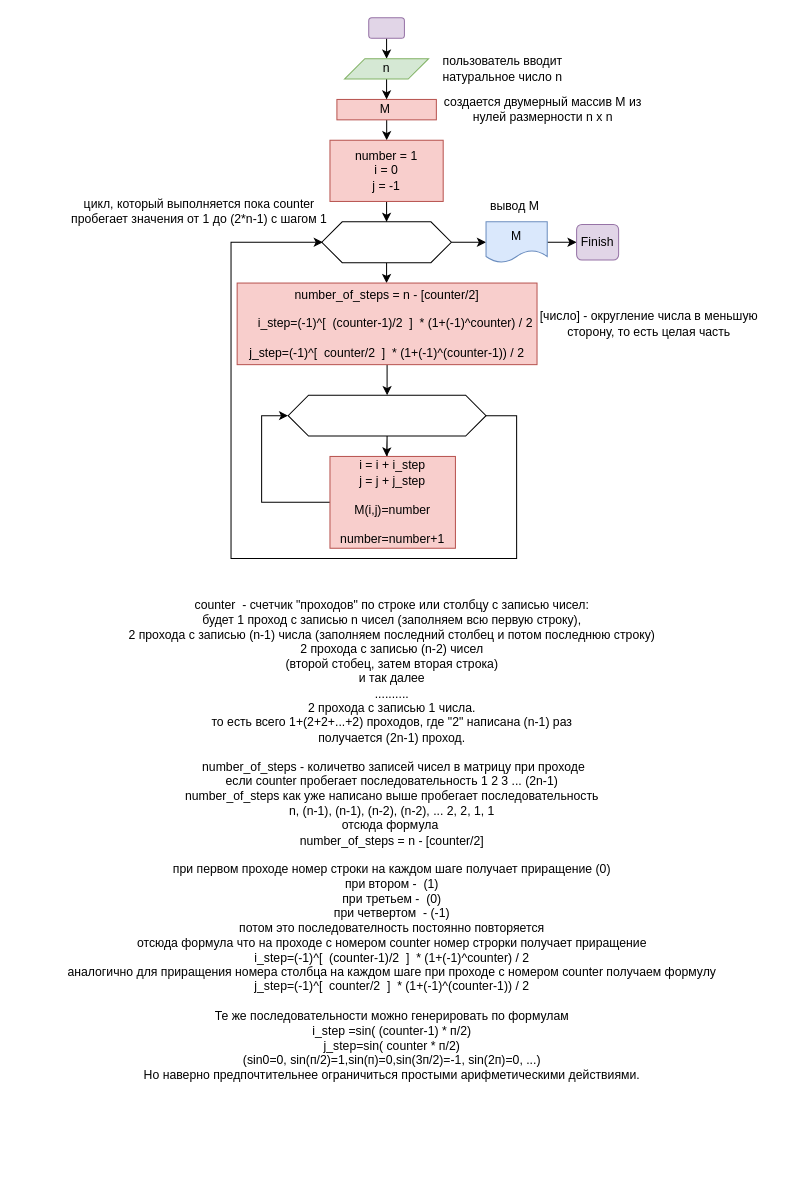
Image size: 786x1188. Some labels were removed from this diagram. The shapes that lost their labels are listed below. From the top down, each one's centre as x and y in pixels, then its label:
At [386,27]: "Start".
At [386,242]: "counter=1, (2*n-1), 1".
At [386,415]: "k=1, number_of_steps, 1".
